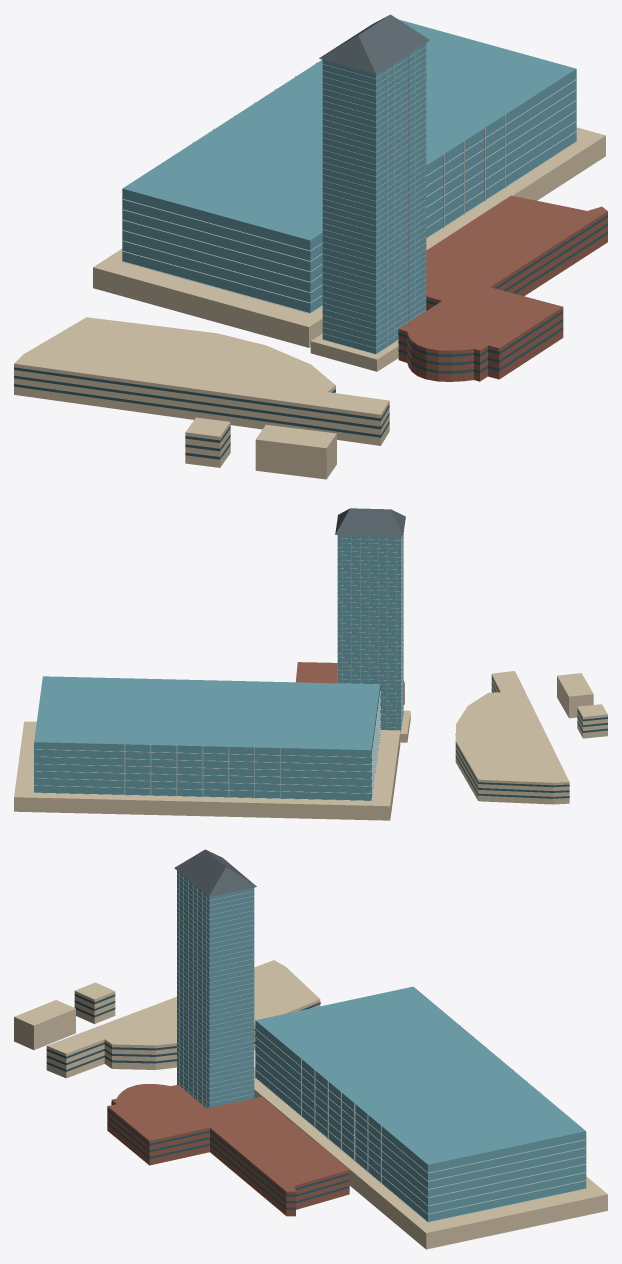
Rendered from city_1_-1.glb.
3 renders of one model, top to bottom at view 1: azimuth 30°, elevation 25°; view 2: azimuth 150°, elevation 25°; view 3: azimuth 270°, elevation 25°, orthographic. The views are drawn at different scales.
Visible parts, largest first — view 1: city_1_-1; view 2: city_1_-1; view 3: city_1_-1.
Part boxes in pixels (box(x1,y1,x2,y2)): city_1_-1: box(14, 14, 607, 479); city_1_-1: box(14, 508, 607, 820); city_1_-1: box(14, 849, 607, 1249).
Bounding box in the file's own units: 346 × 153 × 328.
